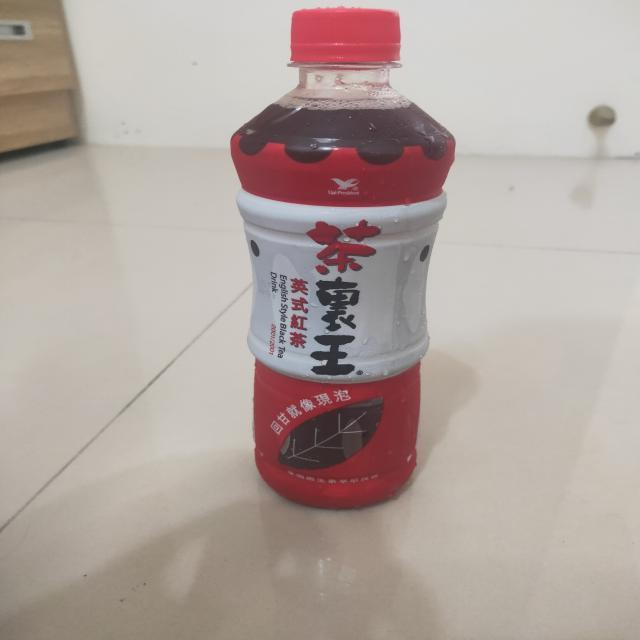ChaLiWong_BlackTea: (229, 0, 456, 521)
